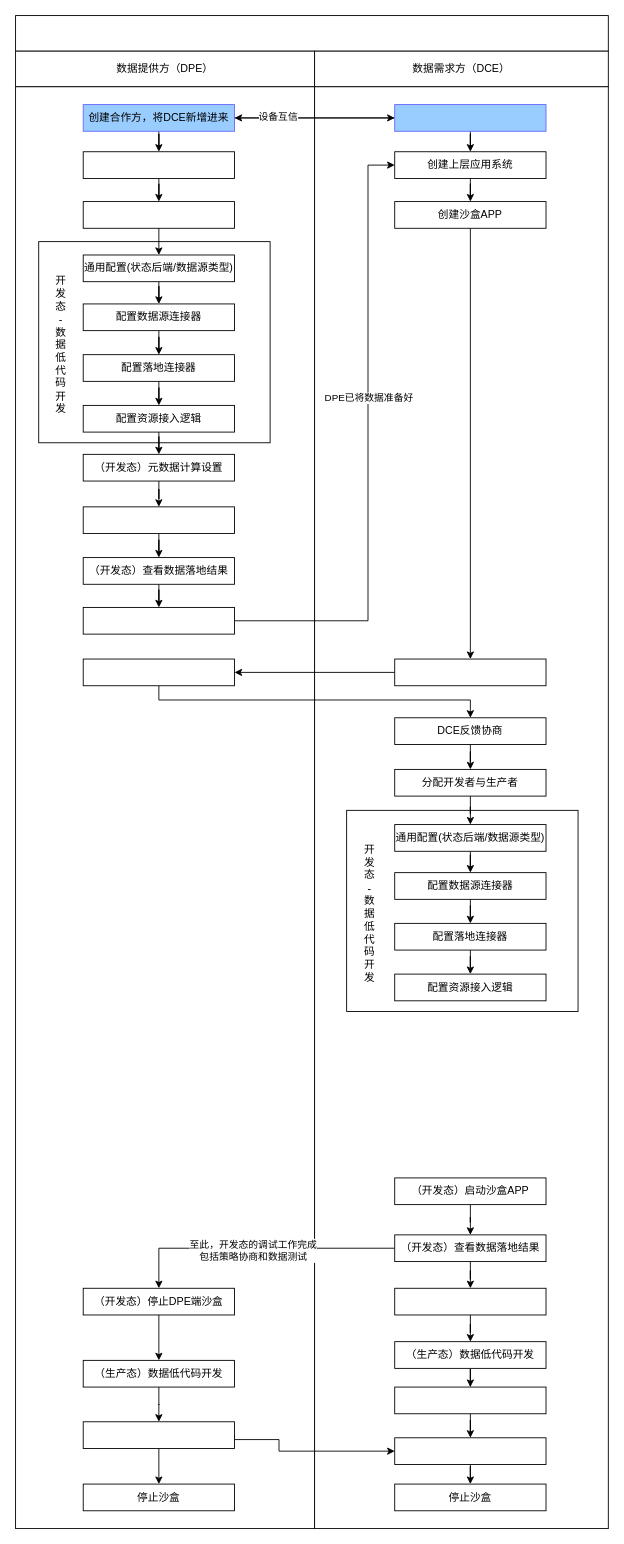
Some shapes in this 624 by 1544 pixel diagram are drawn without their labels. The shapes that lost their labels are listed below. From the top down, each one's centre as x and y in pixels, then its label:
At point (311, 33): "数鑫可信数据空间系统（FlexiTDL）".
At point (470, 117): "创建合作方，将DPE新增进来".
At point (158, 164): "创建开放域".
At point (158, 214): "创建开放资源".
At point (158, 520): "（开发态）启动任务，初加工数据进入待开放空间".
At point (158, 620): "将开放资源授权给合作方".
At point (158, 672): "DPE反馈协商".
At point (470, 672): "发起使用策略协商".
At point (470, 1301): "（开发态）停止DCE端沙盒".
At point (470, 1400): "（生产态）启动DCE端沙盒".
At point (158, 1434): "（生产态）启动DPE端沙盒".
At point (470, 1450): "（生产态）查看数据落地结果".
